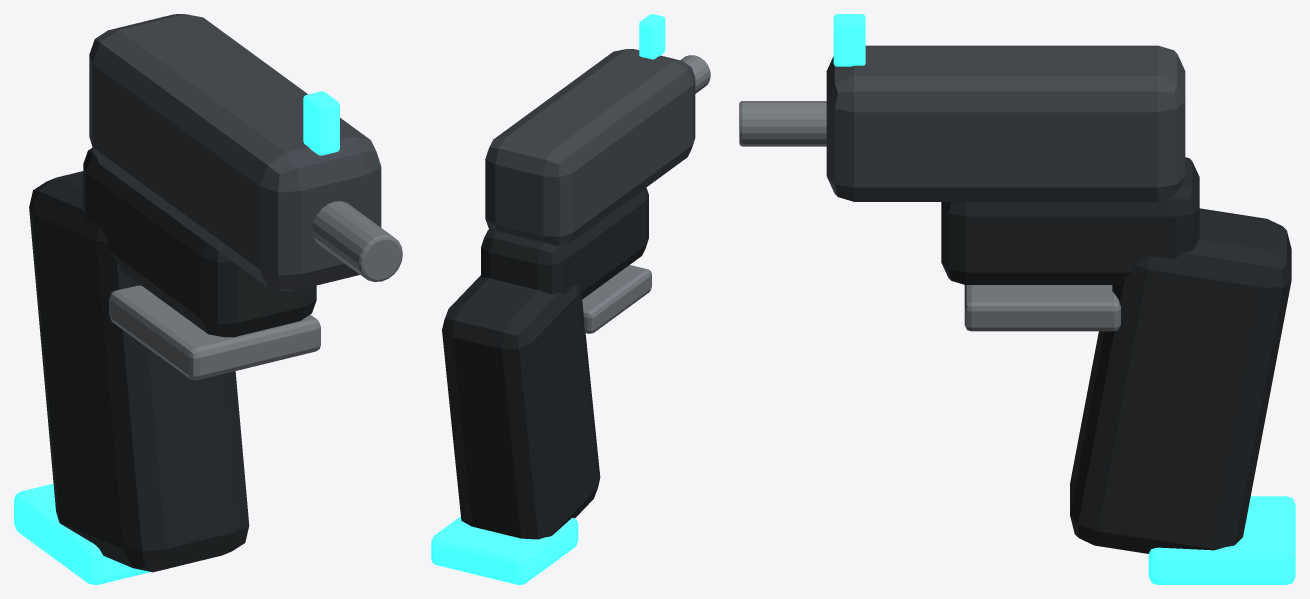
Rendered from glock.glb.
3 views of the same model, side by side, from view 1: azimuth 30°, elevation 25°; view 2: azimuth 150°, elevation 25°; view 3: azimuth 270°, elevation 25° (orthographic). The views are drawn at different scales.
Visible parts, largest first — view 1: Grip.001, Slide.001, Frame.001, Trigger guard.001, Magazine base.001, Barrel.008, Front sight.006; view 2: Grip.001, Slide.001, Frame.001, Magazine base.001, Trigger guard.001, Front sight.006, Barrel.008; view 3: Grip.001, Slide.001, Frame.001, Magazine base.001, Trigger guard.001, Barrel.008, Front sight.006.
Part boxes in pixels (x1,y1,x2,y2): Grip.001: (29, 171, 249, 572); Slide.001: (89, 14, 381, 290); Frame.001: (83, 147, 316, 337); Trigger guard.001: (109, 285, 320, 380); Magazine base.001: (14, 483, 150, 584); Barrel.008: (312, 201, 402, 281); Front sight.006: (303, 91, 339, 155); Grip.001: (442, 275, 600, 539); Slide.001: (485, 49, 695, 246); Frame.001: (481, 187, 648, 299); Magazine base.001: (431, 516, 578, 584); Trigger guard.001: (582, 265, 651, 333); Front sight.006: (639, 14, 665, 59); Barrel.008: (680, 55, 710, 93); Grip.001: (1070, 208, 1291, 553); Slide.001: (826, 45, 1185, 201); Frame.001: (941, 157, 1199, 284); Magazine base.001: (1148, 496, 1295, 584); Trigger guard.001: (964, 285, 1120, 331); Barrel.008: (739, 101, 826, 146); Front sight.006: (833, 14, 865, 66).
Size of the model in its own units: 0.15 by 0.65 by 0.605.
